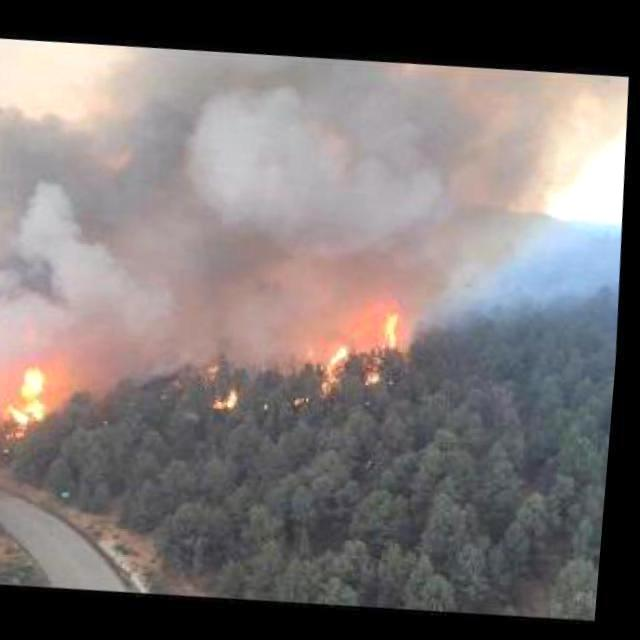fire: (1, 12, 640, 400), (2, 361, 62, 432), (367, 292, 409, 374), (328, 336, 356, 382), (215, 384, 247, 406)
